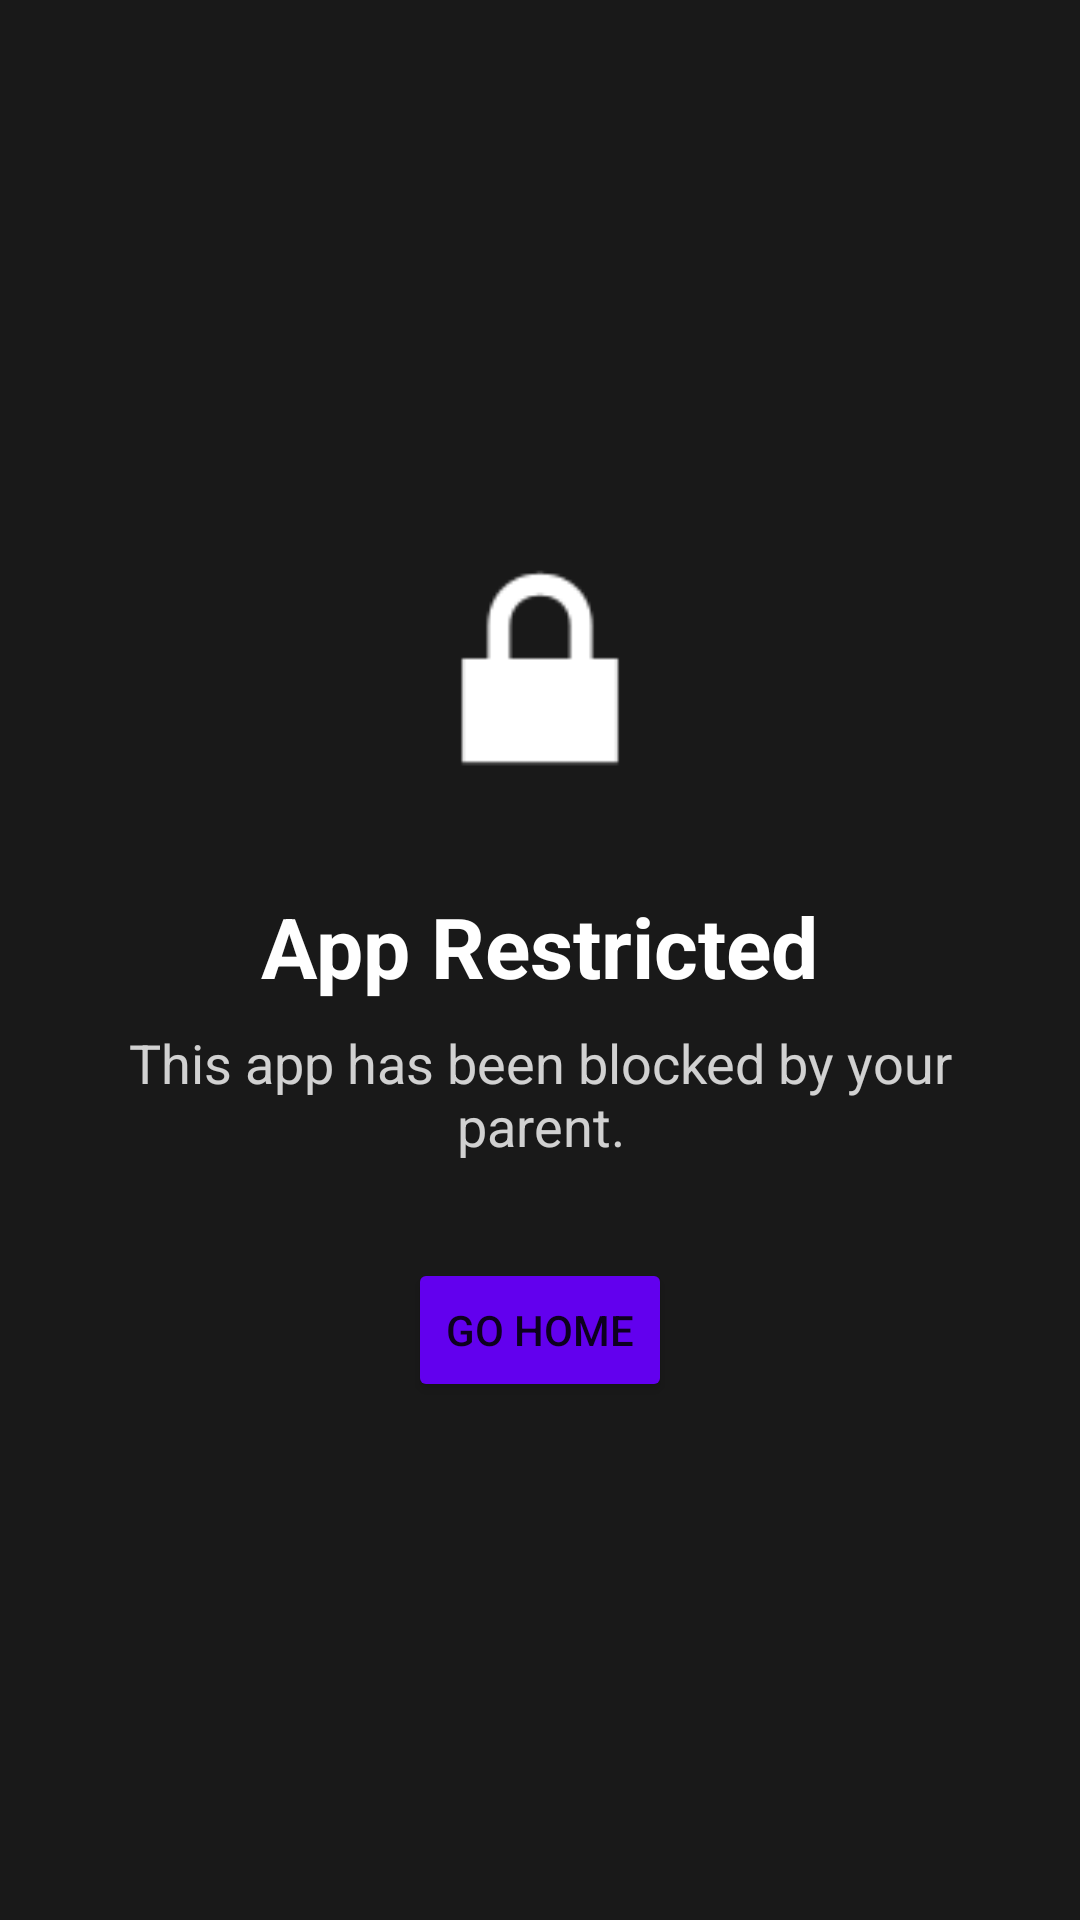

Screen size 1080×1920. Icon name, then its box in pixels as (x1, y1, x2, y2):
lock: (461, 571, 619, 765)
